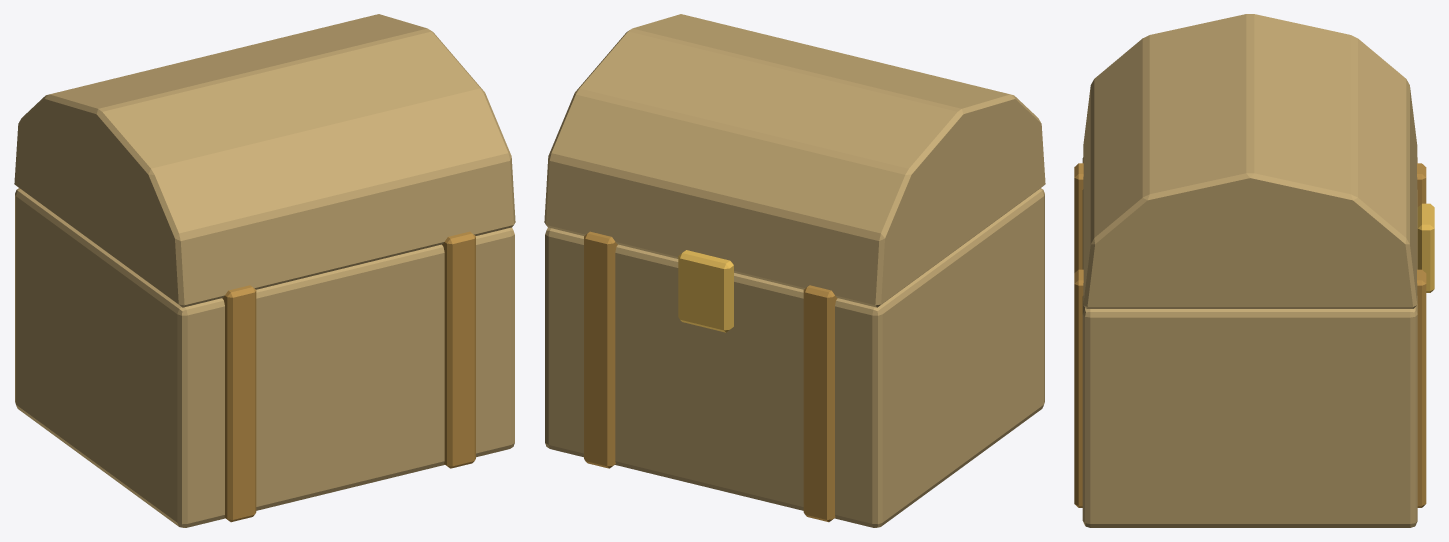
The model's file is desert_chest_v0.glb.
The picture shows the model from 3 angles, left to right: view 1: azimuth 30°, elevation 25°; view 2: azimuth 150°, elevation 25°; view 3: azimuth 270°, elevation 25°; orthographic projection.
Visible parts, largest first — view 1: desert_chest_v0; view 2: desert_chest_v0; view 3: desert_chest_v0.
Part boxes in pixels (bbox=[...]): desert_chest_v0: bbox=[14, 14, 515, 527]; desert_chest_v0: bbox=[544, 14, 1045, 527]; desert_chest_v0: bbox=[1074, 14, 1434, 527].
Bounding box in the file's own units: 0.92 × 0.9377 × 0.86.
